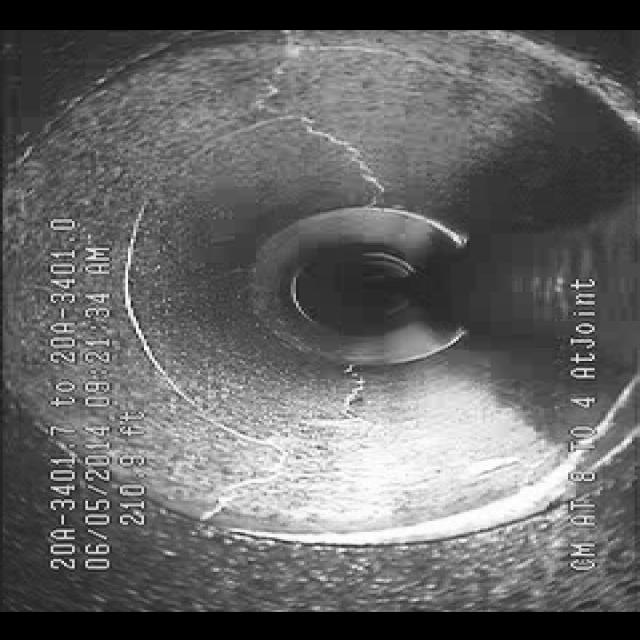Crack: (245, 61, 408, 194)
